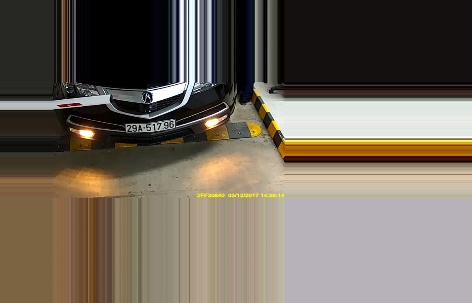plate: (126, 119, 174, 134)
